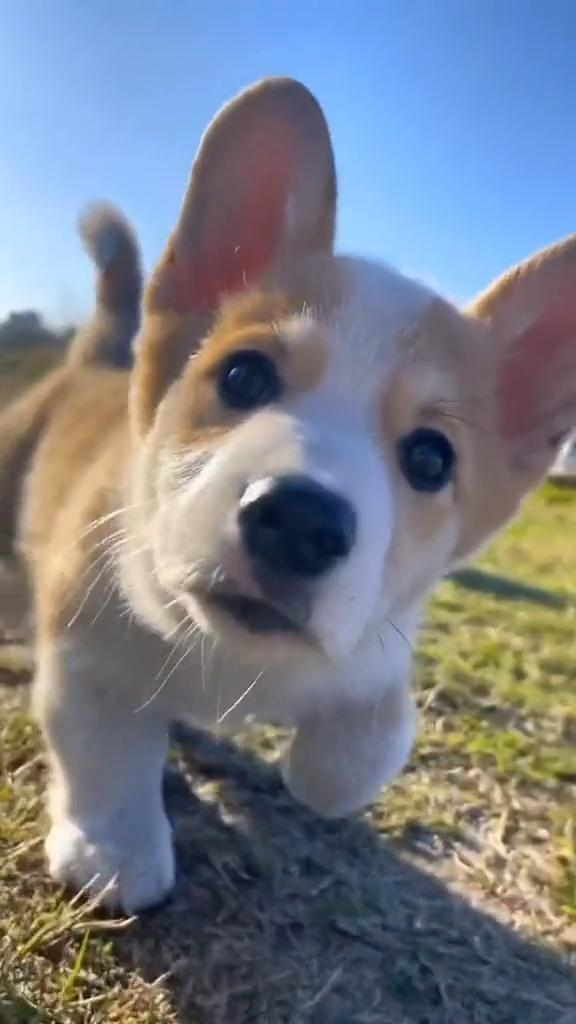puppy-dog: (0, 72, 576, 924)
